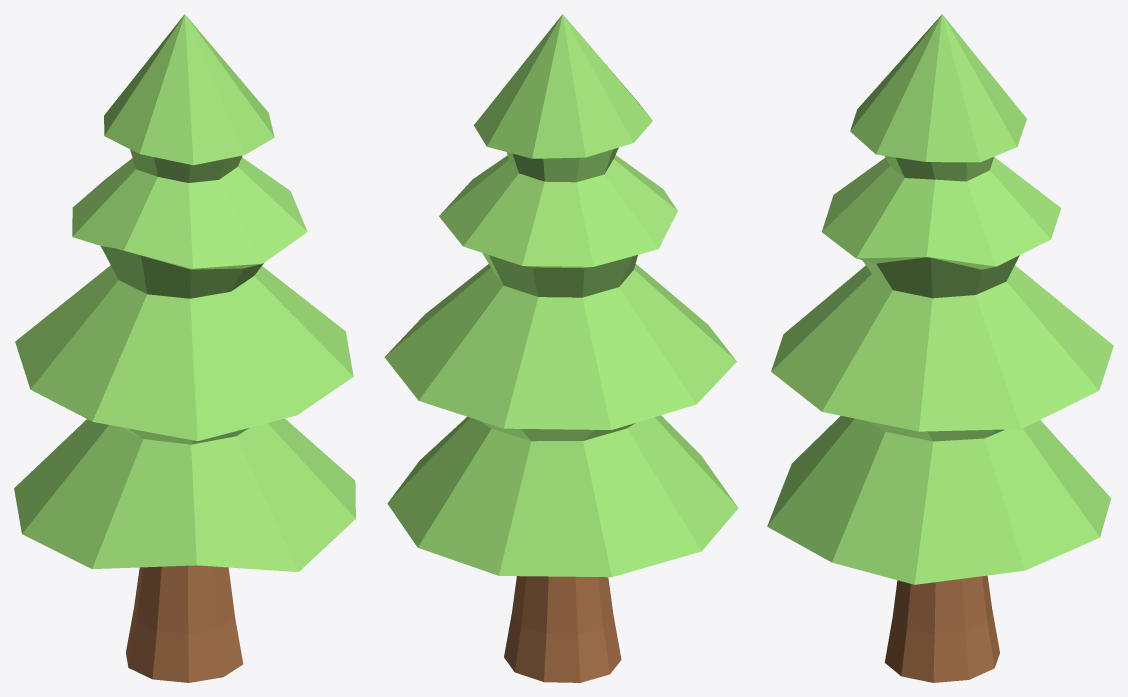
The model's file is Tree4.fbx.
3 views of the same model, side by side, from view 1: azimuth 30°, elevation 25°; view 2: azimuth 150°, elevation 25°; view 3: azimuth 270°, elevation 25° (orthographic).
Visible parts, largest first — view 1: Tree4; view 2: Tree4; view 3: Tree4.
Part boxes in pixels (x1=…): Tree4: x1=14, y1=14, x2=355, y2=682; Tree4: x1=384, y1=14, x2=738, y2=682; Tree4: x1=767, y1=14, x2=1113, y2=682.
Bounding box in the file's own units: 260 × 520 × 254.
